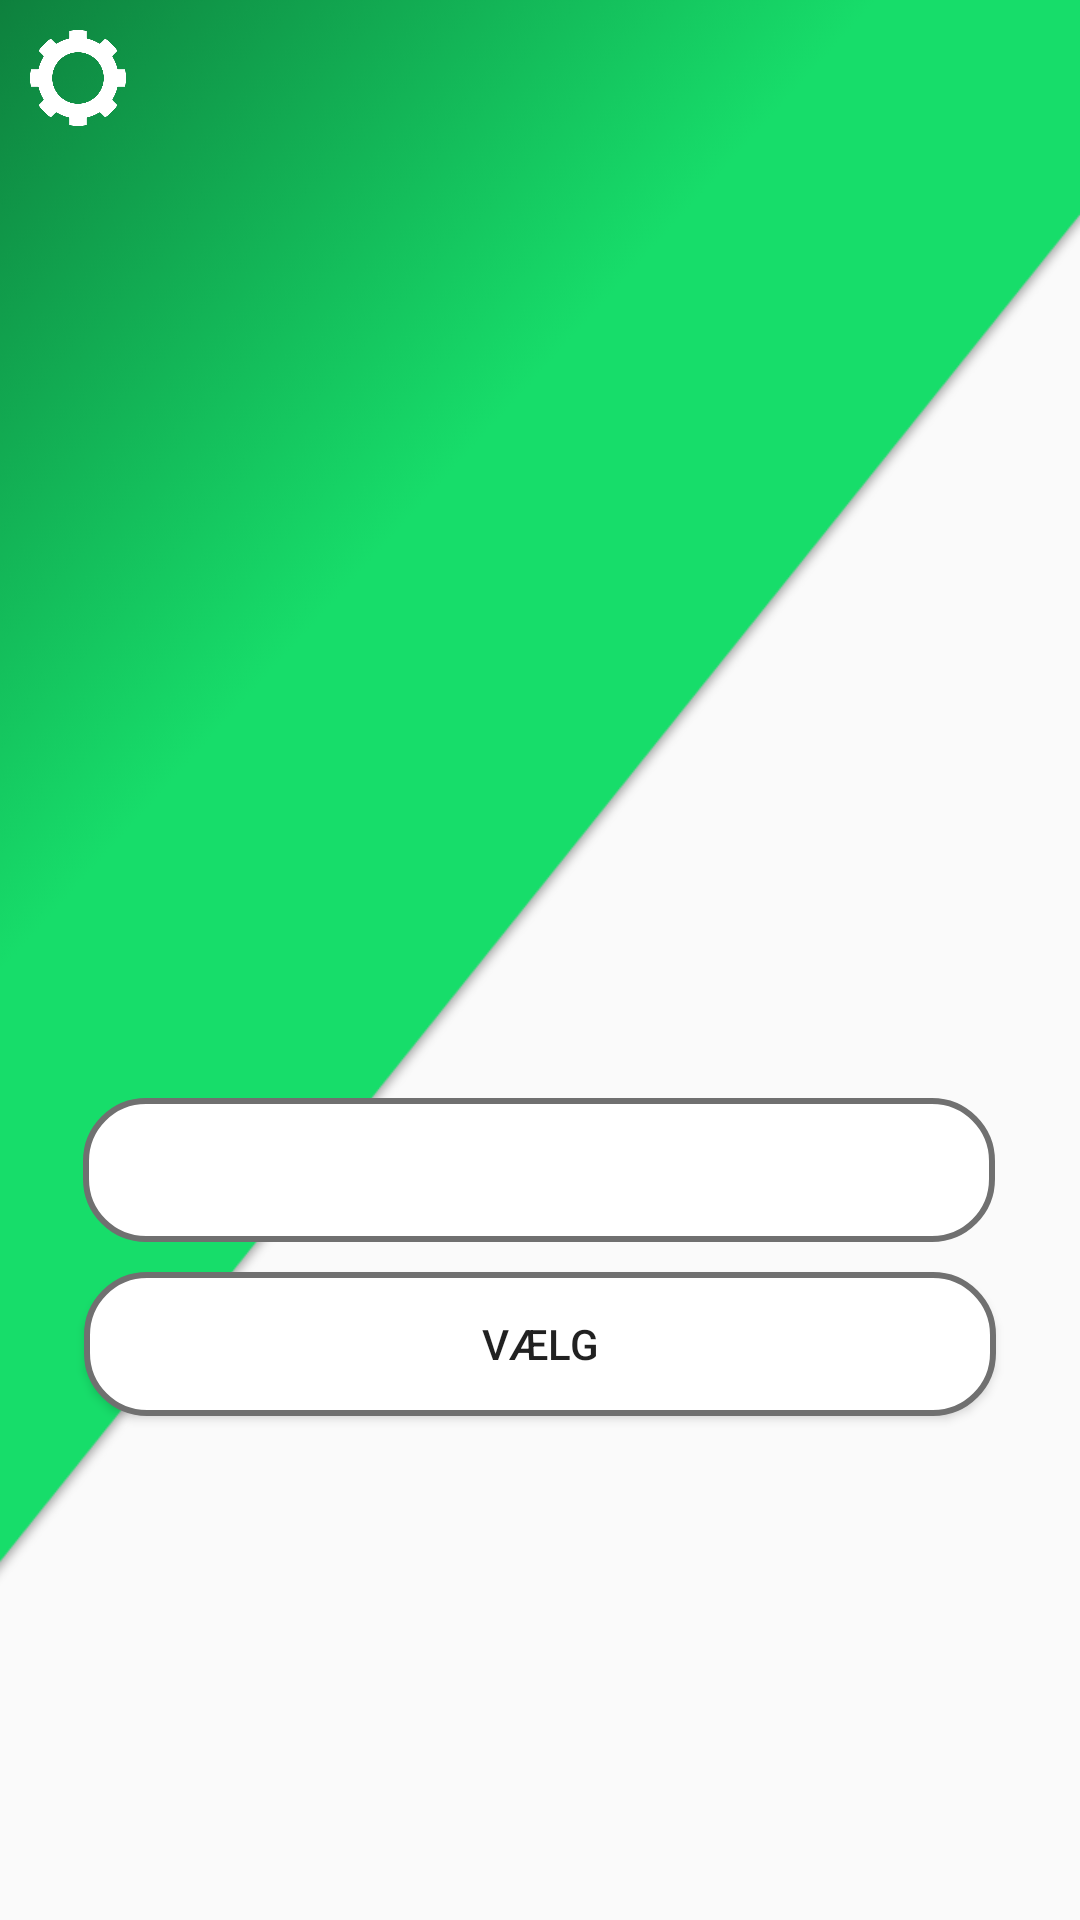

Where to tap for icons on this 1080 × 1920 app screen, as point (x, y):
cockwheelbtn: point (78, 78)
